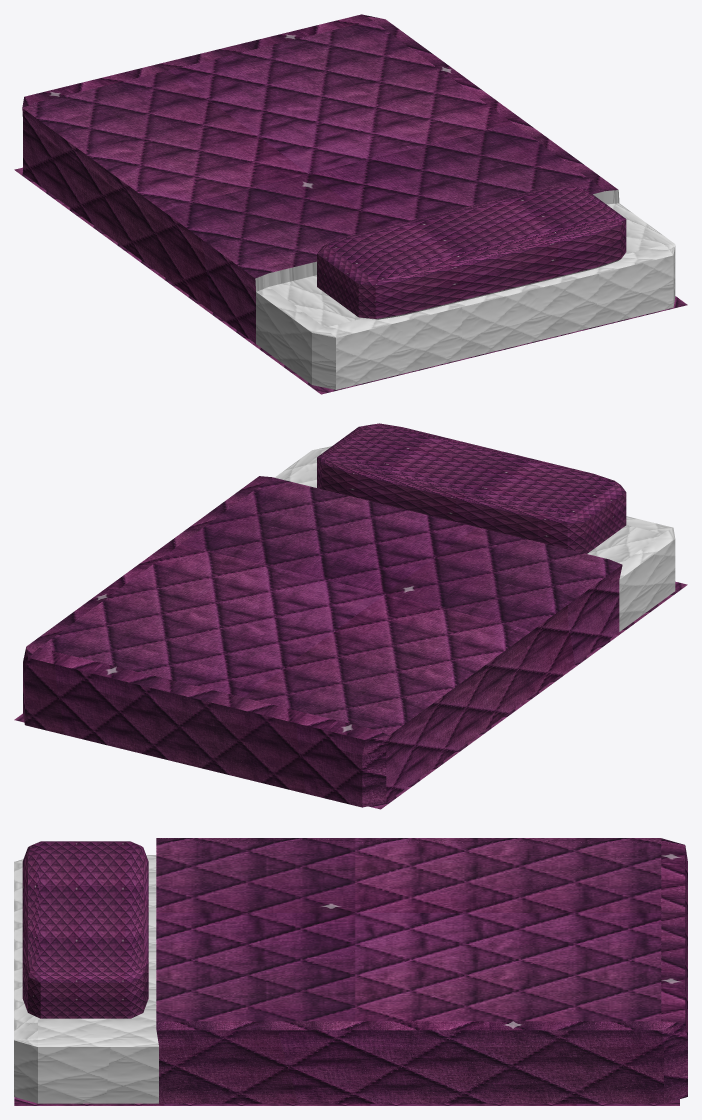
File: cama_morada.fbx
The picture shows the model from 3 angles, top to bottom: view 1: azimuth 30°, elevation 25°; view 2: azimuth 150°, elevation 25°; view 3: azimuth 270°, elevation 25°; orthographic projection. The views are drawn at different scales.
Visible parts, largest first — view 1: Cubo.001; view 2: Cubo.001; view 3: Cubo.001.
Part boxes in pixels (x1,y1,x2,y2): Cubo.001: [14, 14, 687, 394]; Cubo.001: [14, 423, 687, 809]; Cubo.001: [14, 838, 687, 1105].
Bounding box in the file's own units: 514 × 130 × 755.
2 materials, 2 textured.
